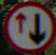Two way: (7, 5, 50, 46)
